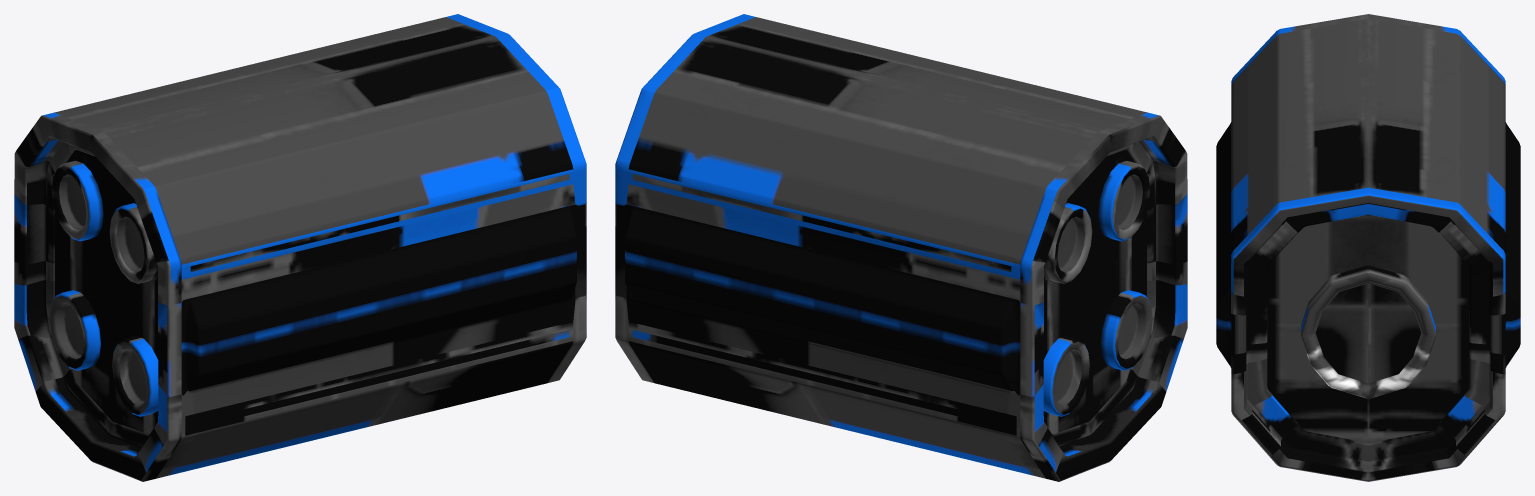
The model's file is SM_Revolver_mag.fbx.
The picture shows the model from 3 angles, left to right: view 1: azimuth 30°, elevation 25°; view 2: azimuth 150°, elevation 25°; view 3: azimuth 270°, elevation 25°; orthographic projection. The views are drawn at different scales.
Parts seen in each view (by area): view 1: Mag; view 2: Mag; view 3: Mag.
Boxes of the visible parts, <box> form: Mag: <box>14,14,586,481</box>; Mag: <box>615,14,1187,481</box>; Mag: <box>1216,14,1520,481</box>.
Size of the model in its own units: 5.05 by 3.59 by 3.77.
Materials: 1 (1 with a texture image).
